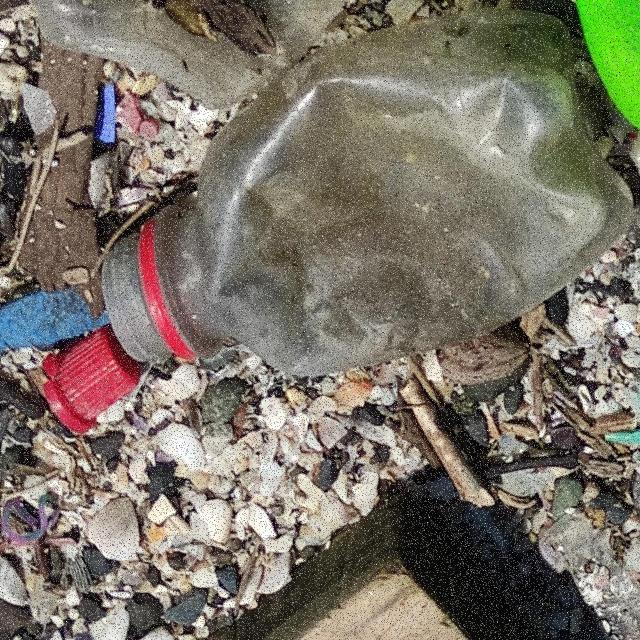plastic_waste: (105, 5, 633, 384)
